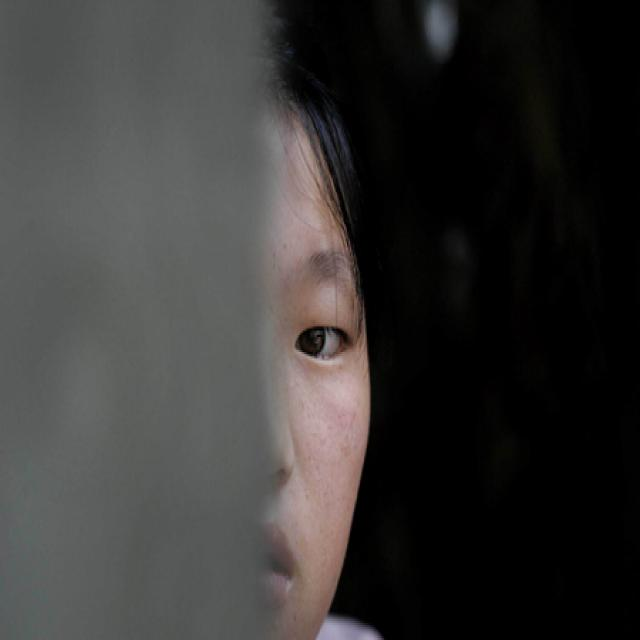nomask: (121, 106, 368, 636)
